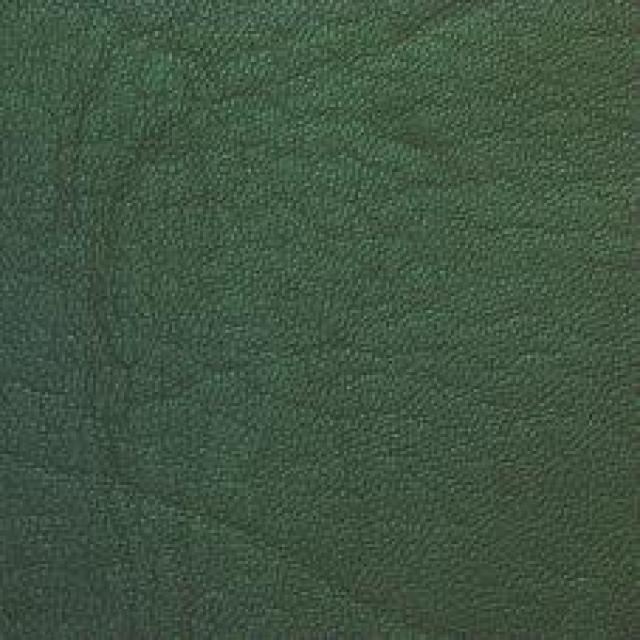Growth Marks: (42, 207, 194, 483)
